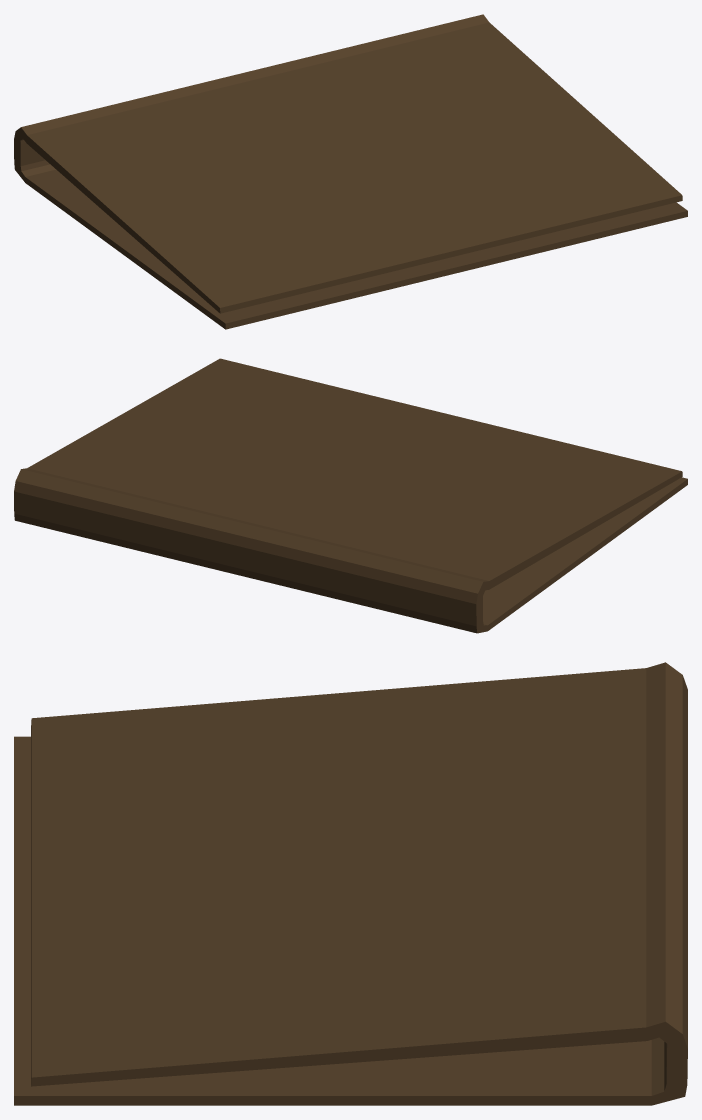
The model's file is carpeta.fbx.
The picture shows the model from 3 angles, top to bottom: view 1: azimuth 30°, elevation 25°; view 2: azimuth 150°, elevation 25°; view 3: azimuth 270°, elevation 25°; orthographic projection. The views are drawn at different scales.
Visible parts, largest first — view 1: Carpeta; view 2: Carpeta; view 3: Carpeta.
Boxes of the visible parts, <box> form: Carpeta: <box>14,14,687,329</box>; Carpeta: <box>14,358,687,633</box>; Carpeta: <box>14,662,687,1105</box>.
Bounding box in the file's own units: 200 × 21.79 × 159.
